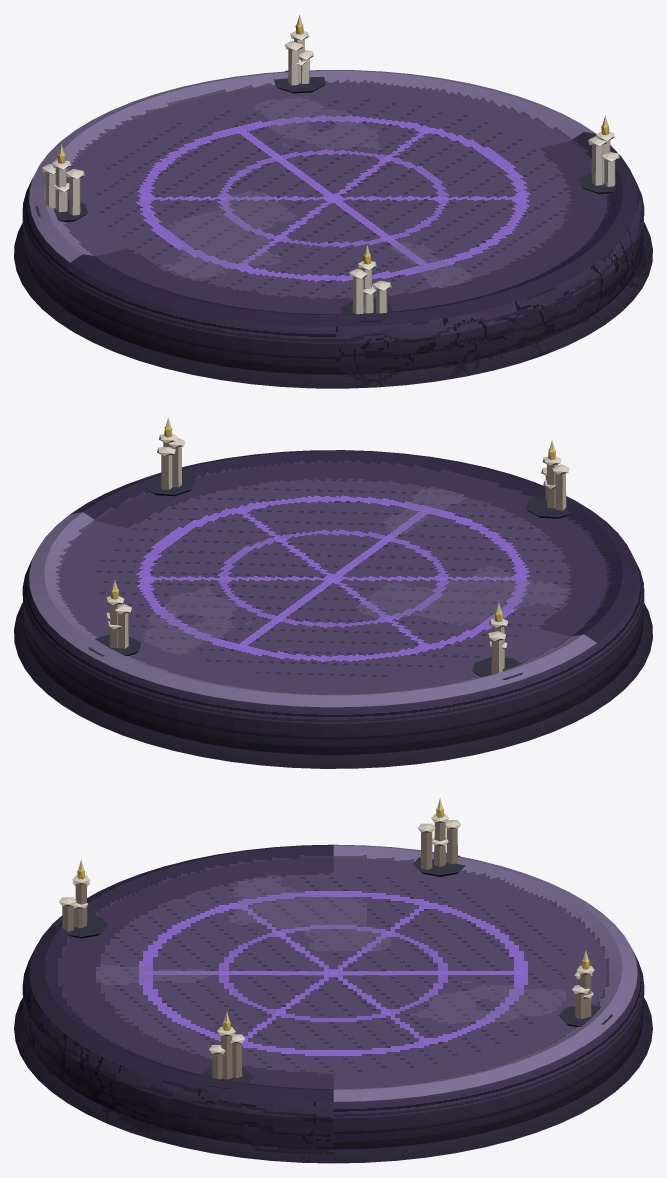
Rendered from platform_tower.glb.
3 views of the same model, one above another, from view 1: azimuth 30°, elevation 25°; view 2: azimuth 150°, elevation 25°; view 3: azimuth 270°, elevation 25° (orthographic).
Parts seen in each view (by area): view 1: platform_tower, plat_tower; view 2: platform_tower, plat_tower; view 3: platform_tower, plat_tower.
Part boxes in pixels (box(x1,y1,x2,y2)): platform_tower: box(14, 70, 652, 388); plat_tower: box(35, 31, 631, 322); platform_tower: box(14, 450, 652, 768); plat_tower: box(88, 434, 578, 679); platform_tower: box(14, 844, 652, 1163); plat_tower: box(54, 814, 612, 1088).
Bounding box in the file's own units: 2.1 × 0.451 × 2.1.
4 materials, 2 textured.
